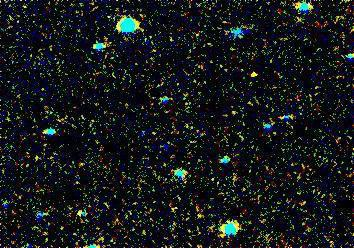star: (238, 59, 268, 89)
